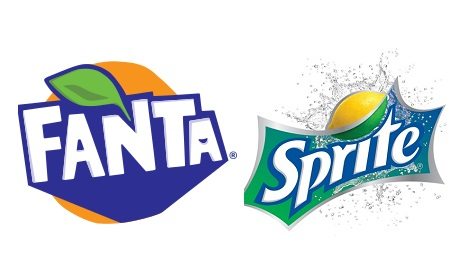sprite: (254, 105, 418, 208), (259, 105, 418, 208)
